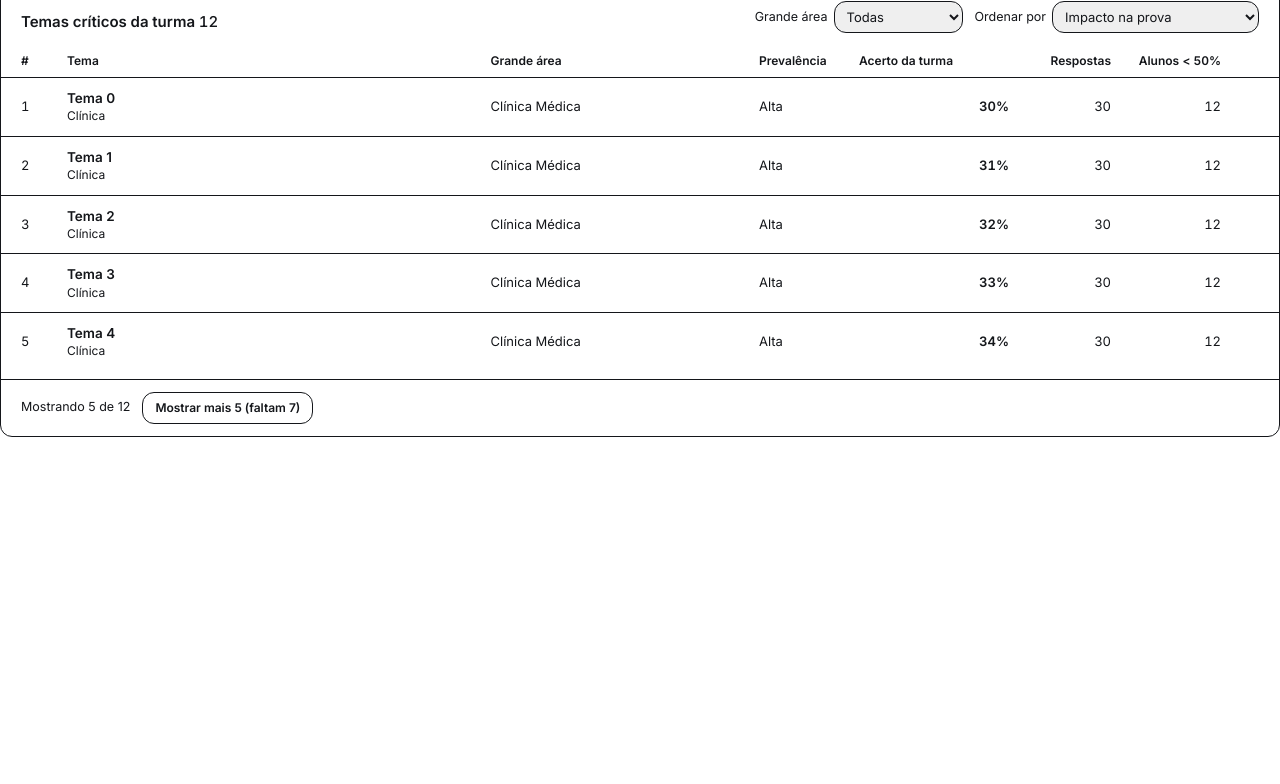
expande de 5 em 5 até o fim e recolhe fechando a linha
This screenshot has width=1280, height=784.
Expected: the text "Mostrando 5 de 12" is shown, left=21, top=398, right=130, bottom=417
What coordinates should you click on to do the following:
click the button "Mostrar mais 5 (faltam 7)"
I would click on:
 (228, 408)
Its box is left=142, top=392, right=313, bottom=424.
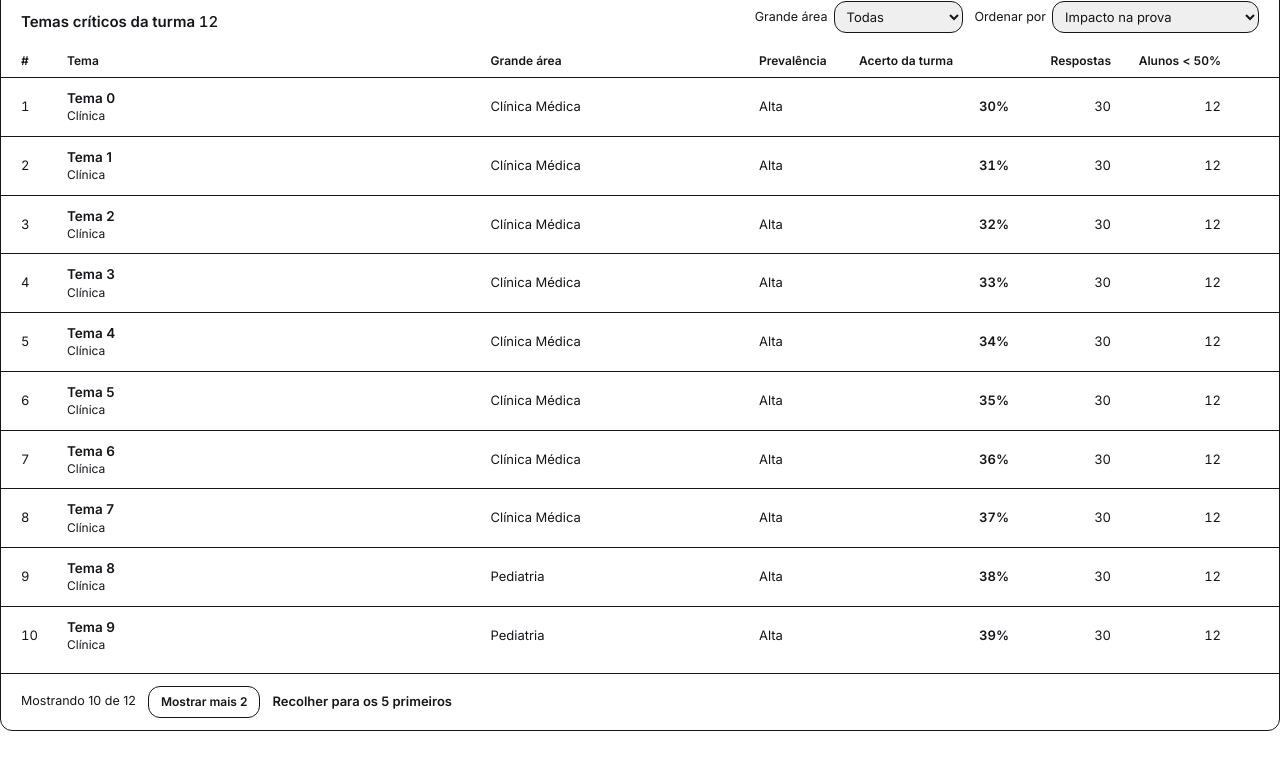
Expected: the text "Mostrando 10 de 12" is shown, left=21, top=692, right=136, bottom=711
What coordinates should you click on to do the following:
click the button "Mostrar mais 2"
I would click on:
 (204, 702)
Its box is left=148, top=686, right=260, bottom=718.
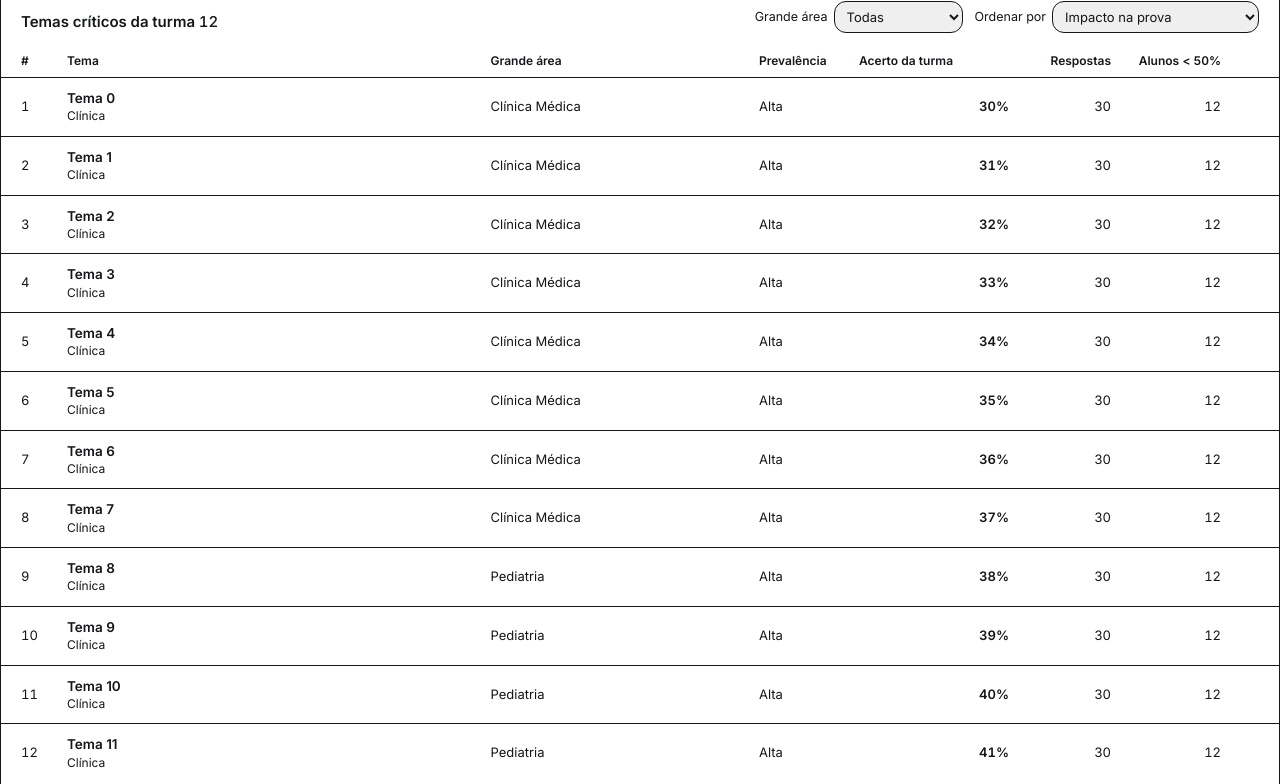
What coordinates should you click on to do the following:
click the button with aria-label "Expandir Tema 0"
I would click on:
 (91, 106)
Its box is left=67, top=88, right=115, bottom=124.
(page scrolled)
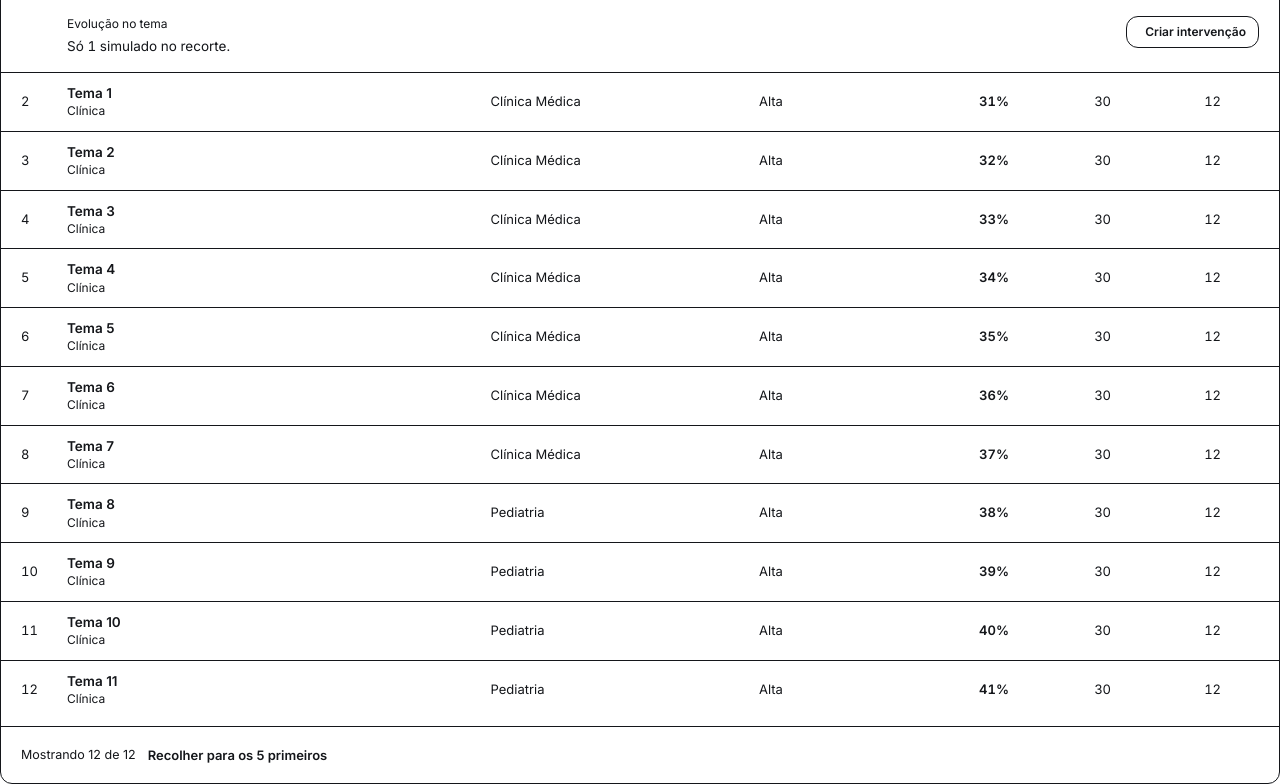
Expected: the text "Evolução no tema" is shown, left=67, top=16, right=168, bottom=31
What coordinates should you click on to do the following:
click the button "Recolher para os 5 primeiros"
I would click on:
 (237, 755)
Its box is left=148, top=739, right=327, bottom=771.
(page scrolled)
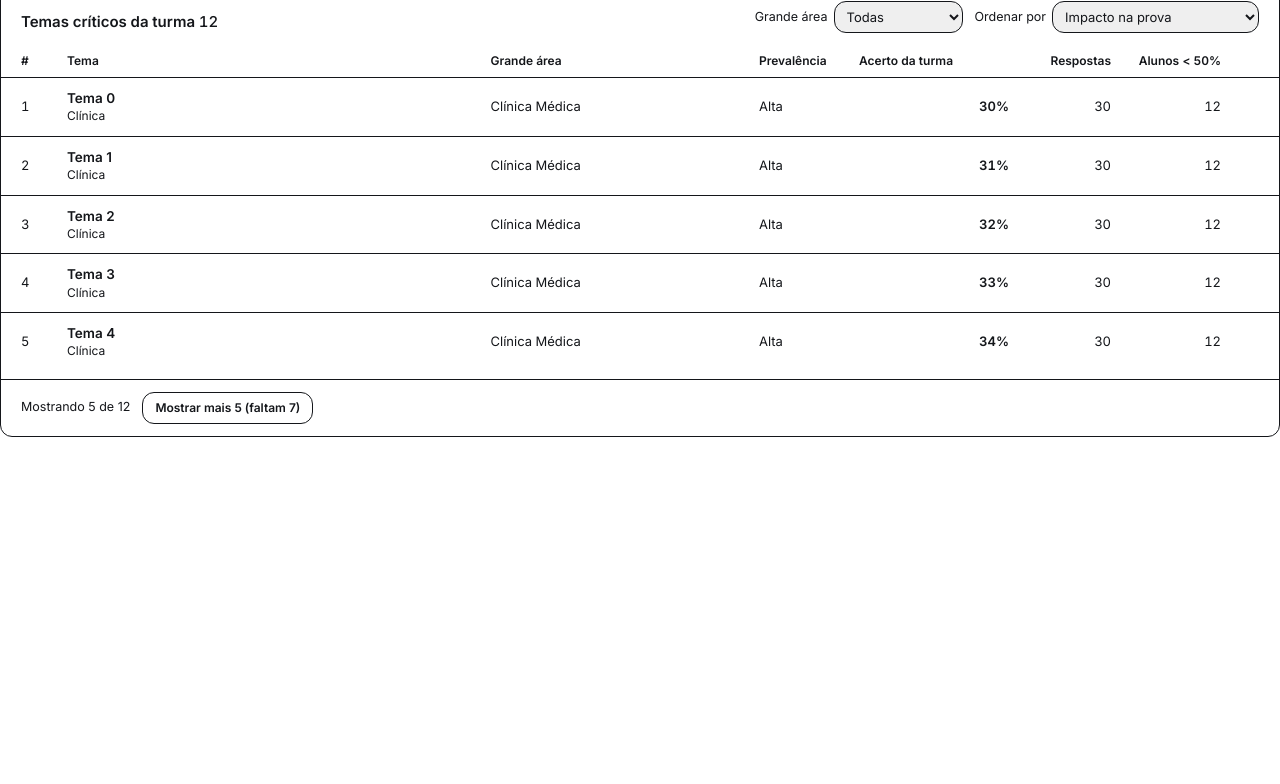
Expected: the text "Mostrando 5 de 12" is shown, left=21, top=398, right=130, bottom=417
Expected: the text "Evolução no tema" is gone
